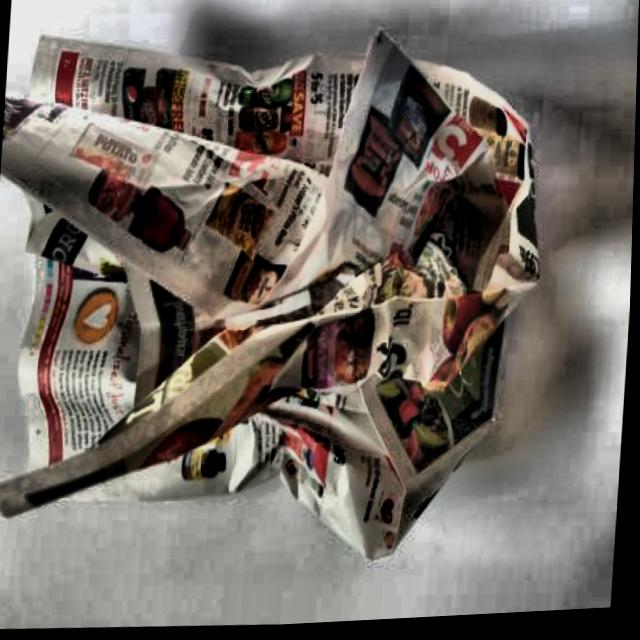Paper: (0, 0, 564, 595)
